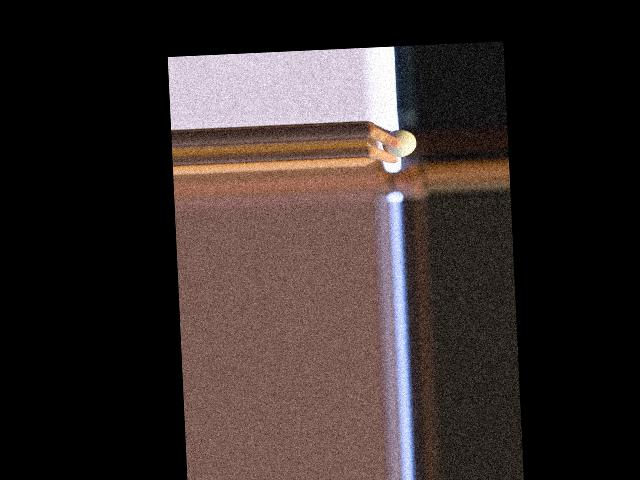egg: (381, 129, 416, 158)
